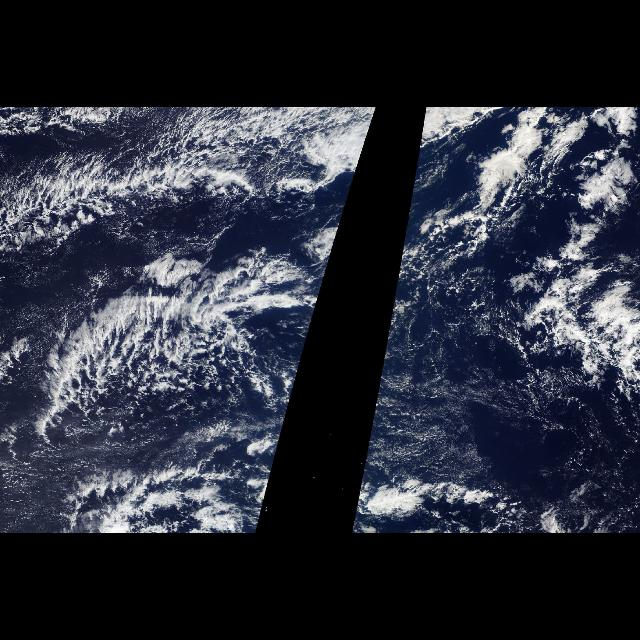Fish: (3, 132, 341, 438)
Gravel: (49, 266, 290, 462)
Sugar: (376, 349, 536, 477)
